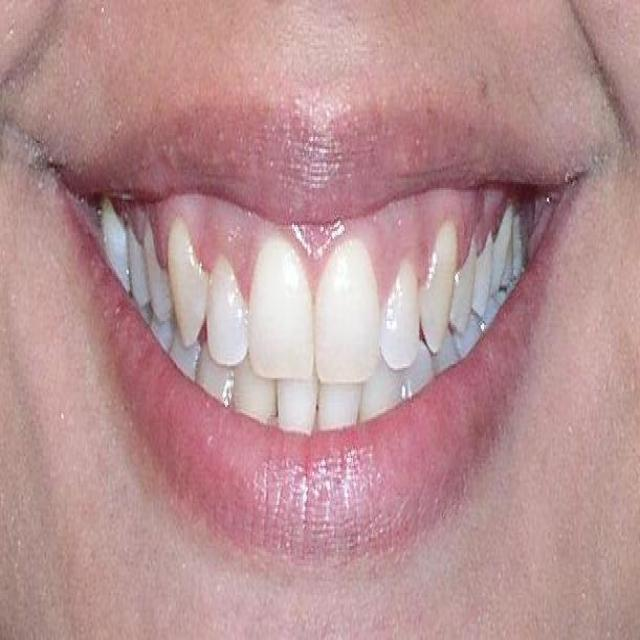tooth: (248, 240, 320, 382), (317, 248, 376, 374), (208, 253, 252, 360), (171, 211, 206, 335), (422, 216, 455, 344), (381, 258, 419, 368), (147, 219, 182, 321), (234, 358, 274, 433), (100, 192, 128, 292), (276, 382, 316, 448), (446, 241, 478, 323), (462, 243, 494, 315), (501, 206, 527, 286), (359, 380, 406, 424), (317, 378, 358, 428), (200, 352, 236, 405), (488, 200, 508, 294), (129, 235, 153, 305), (406, 338, 431, 384), (172, 337, 199, 378), (150, 317, 174, 354), (431, 327, 452, 368), (460, 315, 480, 352)
